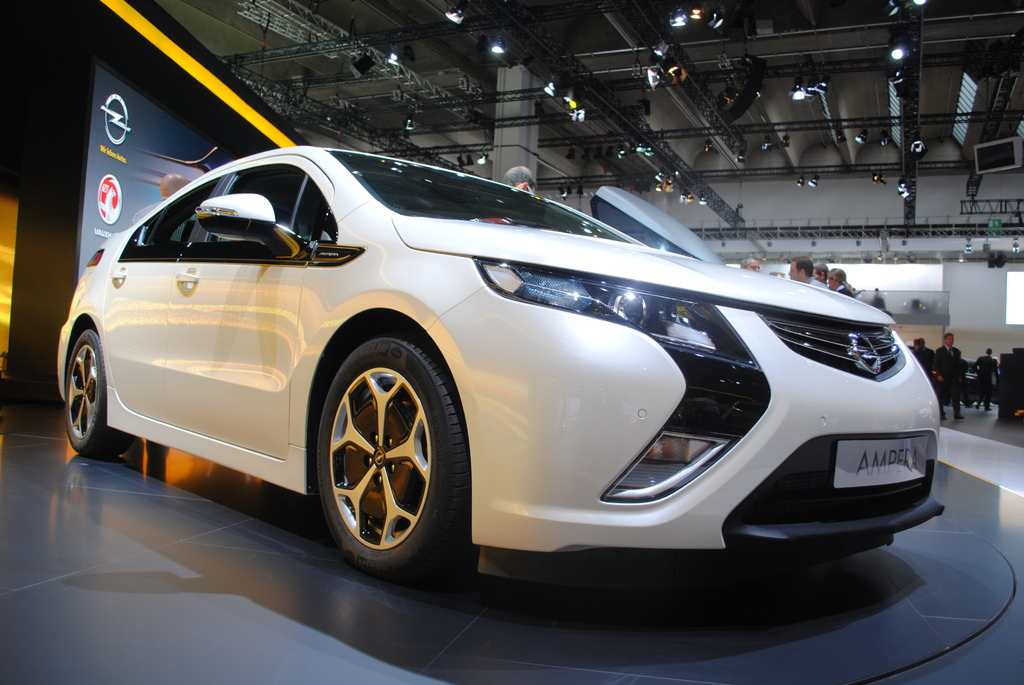Car: (58, 138, 904, 600)
